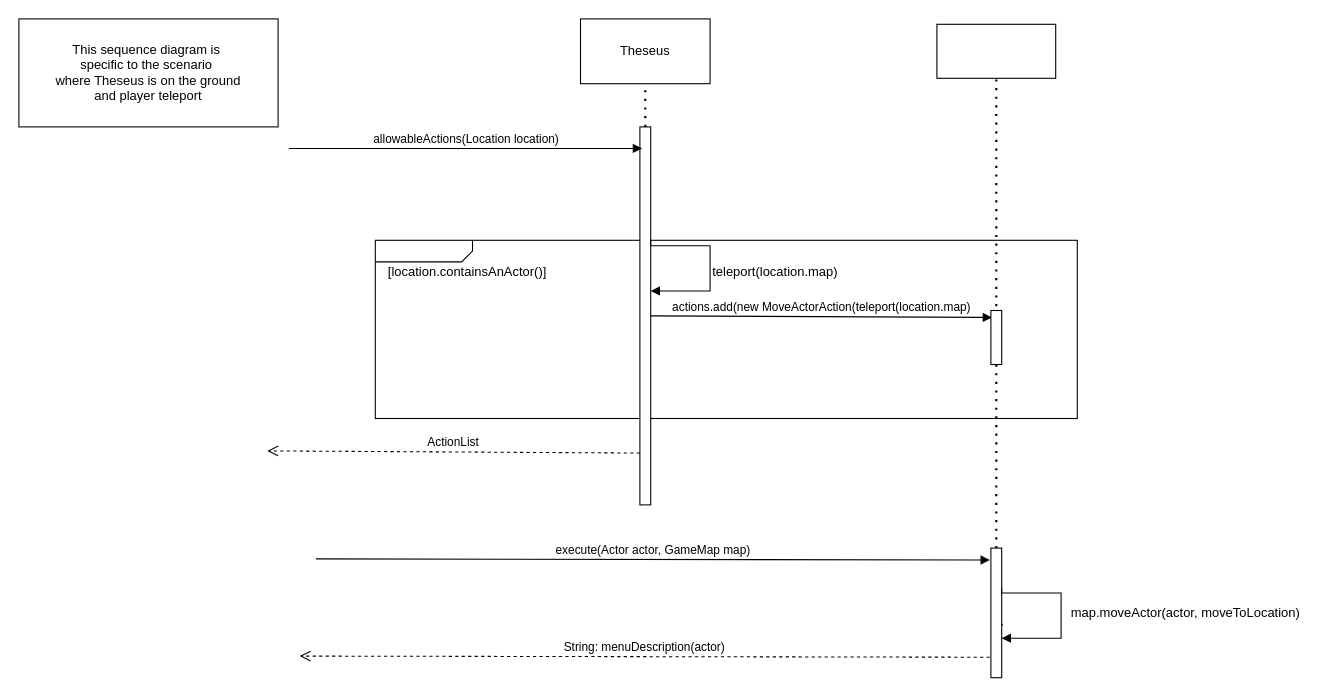
Some shapes in this 1334 by 699 pixel diagram are drawn without their labels. Each missing label, with the box of its shape:
MoveActorAction: (936, 23, 1056, 78)
Opt: (374, 239, 1077, 418)
